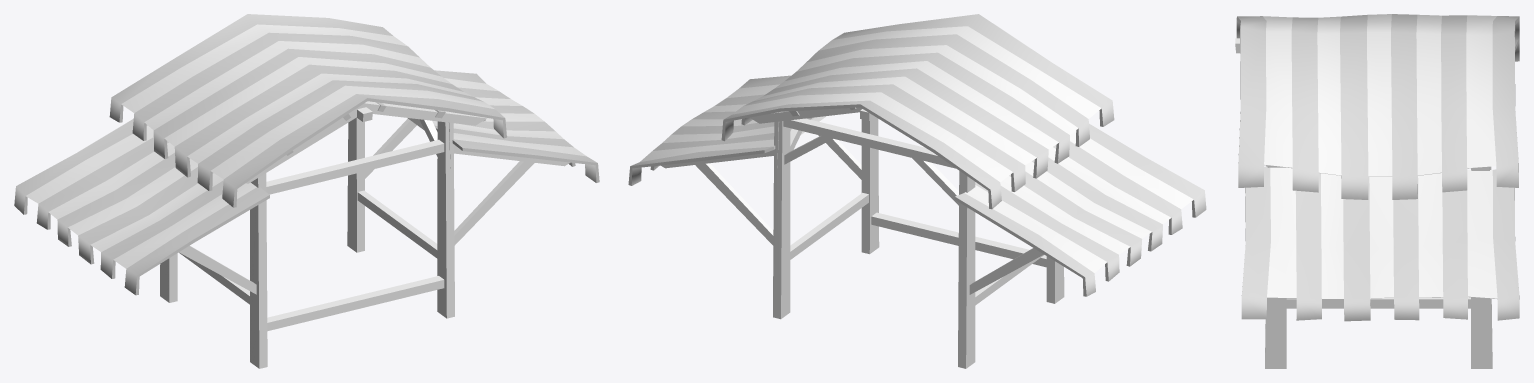
Rendered from PT_Market_Stall_08_a.fbx.
3 renders of one model, left to right at view 1: azimuth 30°, elevation 25°; view 2: azimuth 150°, elevation 25°; view 3: azimuth 270°, elevation 25°, orthographic. The views are drawn at different scales.
Visible parts, largest first — view 1: PT_Market_Stall_08_a; view 2: PT_Market_Stall_08_a; view 3: PT_Market_Stall_08_a.
Part boxes in pixels (left/top/right/bottom): PT_Market_Stall_08_a: left=14, top=14, right=599, bottom=368; PT_Market_Stall_08_a: left=628, top=14, right=1206, bottom=368; PT_Market_Stall_08_a: left=1235, top=14, right=1519, bottom=368.
Size of the model in its own units: 694 by 362 by 320.
1 material, 1 textured.
